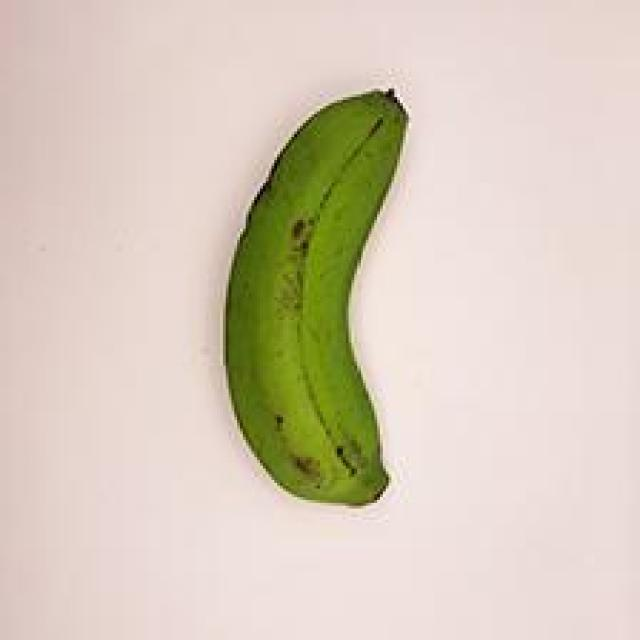Raw: (188, 69, 459, 528)
